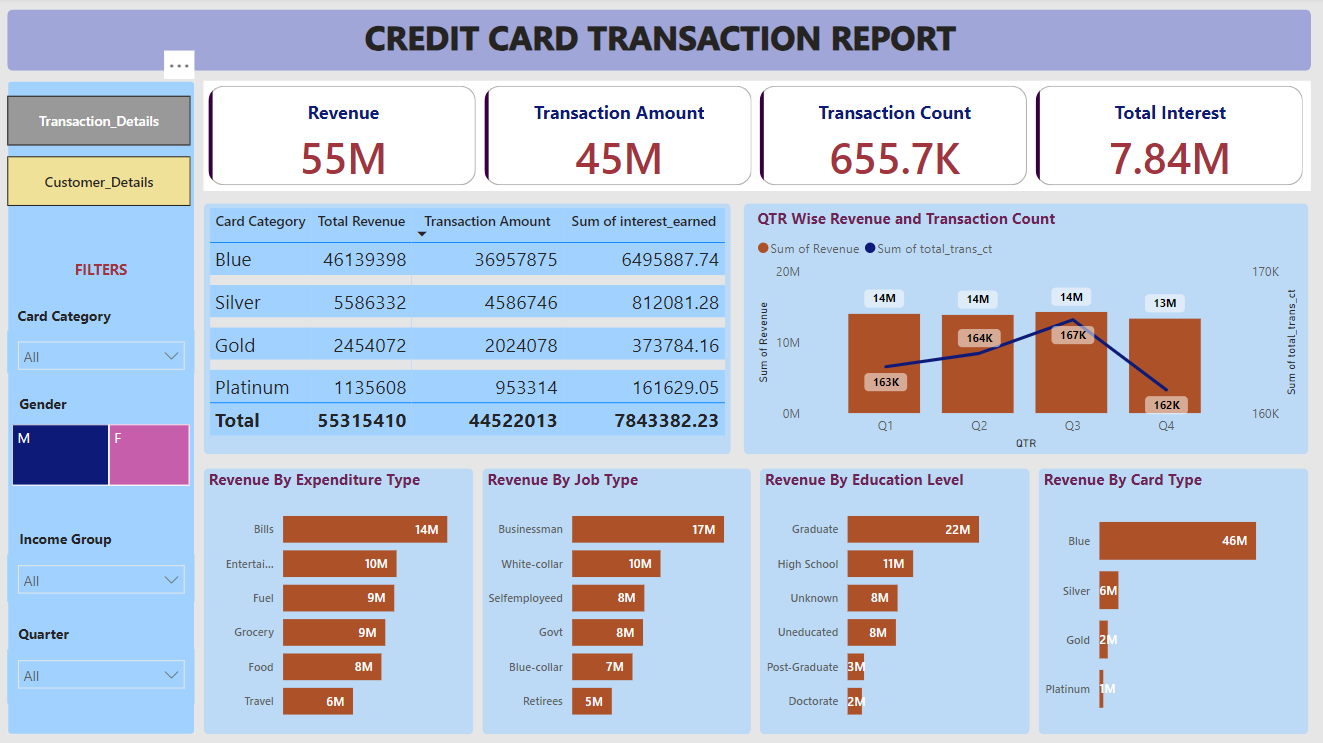

The page's visual inventory and layout, read from the dashboard file:
{"tool":"powerbi","page":{"name":"Transaction_Details","canvas":[1280,720],"ordinal":0},"visuals":[{"type":"shape","box":[10.9,12.1,1258.3,59.1],"z":0},{"type":"textbox","box":[325.7,12.1,631,59.1],"z":1000},{"type":"shape","box":[10.9,80.8,181,631],"z":2000},{"type":"textbox","box":[10.9,248.5,181,30.2],"z":3000},{"type":"cardVisual","fields":{"Data":["Sum(public cc_detail.Revenue)","Sum(public cc_detail.total_trans_amt)","Sum(public cc_detail.total_trans_ct)","Sum(public cc_detail.interest_earned)"]},"box":[200.3,80.8,1068.9,106.2],"z":4000},{"type":"shape","box":[721.5,199.1,545.3,242.5],"z":5000},{"type":"shape","box":[200.3,199.1,509.1,242.5],"z":6000},{"type":"shape","box":[200.3,454.8,260.6,257],"z":7000},{"type":"lineStackedColumnComboChart","title":"QTR Wise Revenue and Transaction Count","fields":{"Category":["public cc_detail.qtr"],"Y":["Sum(public cc_detail.Revenue)"],"Y2":["Sum(public cc_detail.total_trans_ct)"]},"box":[729.9,202.7,532,238.9],"z":8000},{"type":"shape","box":[469.3,454.8,259.4,257],"z":9000},{"type":"shape","box":[1006.2,454.8,260.6,257],"z":10000},{"type":"shape","box":[737.1,454.8,260.6,257],"z":11000},{"type":"barChart","title":"Revenue By Expenditure Type","fields":{"Y":["Sum(public cc_detail.Revenue)"],"Category":["public cc_detail.exp_type"]},"box":[200.3,454.8,254.6,257],"z":12000},{"type":"barChart","title":"Revenue By Job Type","fields":{"Y":["Sum(public cc_detail.Revenue)"],"Category":["public cust_detail.customer_job"]},"box":[469.3,454.8,260.6,257],"z":13000},{"type":"barChart","title":"Revenue By Education Level","fields":{"Y":["Sum(public cc_detail.Revenue)"],"Category":["public cust_detail.education_level"]},"box":[737.1,454.8,260.6,257],"z":14000},{"type":"barChart","title":"Revenue By Card Type","fields":{"Y":["Sum(public cc_detail.Revenue)"],"Category":["public cc_detail.card_category"]},"box":[1006.2,454.8,260.6,257],"z":15000},{"type":"tableEx","fields":{"Values":["public cc_detail.card_category","Sum(public cc_detail.Revenue)","Sum(public cc_detail.total_trans_amt)","Sum(public cc_detail.interest_earned)"]},"box":[200.3,199.1,509.1,242.5],"z":16000},{"type":"pageNavigator","box":[10.9,95.3,177.3,107.4],"z":17000},{"type":"slicer","fields":{"Values":["public cc_detail.card_category"]},"box":[10.9,322.1,181,41],"z":18000},{"type":"textbox","box":[10.9,293.2,109.8,29],"z":19000},{"type":"treemap","title":"Gender","fields":{"Group":["public cust_detail.gender"],"Values":["Sum(public cc_detail.Revenue)"]},"box":[10.9,407.8,181,68.8],"z":20000},{"type":"textbox","box":[10.9,378.8,68.8,29],"z":21000},{"type":"slicer","fields":{"Values":["public cust_detail.Income group"]},"box":[10.9,538.1,181,45.8],"z":22000},{"type":"textbox","box":[12.1,509.1,109.8,29],"z":23000},{"type":"slicer","fields":{"Values":["public cc_detail.qtr"]},"box":[10.9,629.8,181,51.9],"z":24000},{"type":"textbox","box":[12.1,600.8,67.6,29],"z":25000}]}

Visuals, with their boxes in screenshot pixels (x1, y1, x2, y2), scaled from the page's 1280x720 canvas onto the 1323x743 screenshot:
shape: box=[11, 12, 1312, 73]
textbox: box=[337, 12, 989, 73]
shape: box=[11, 83, 198, 735]
textbox: box=[11, 256, 198, 288]
cardVisual - Sum(public cc_detail.Revenue) x Sum(public cc_detail.total_trans_amt): box=[207, 83, 1312, 193]
shape: box=[746, 205, 1309, 456]
shape: box=[207, 205, 733, 456]
shape: box=[207, 469, 476, 735]
"QTR Wise Revenue and Transaction Count" lineStackedColumnComboChart: box=[754, 209, 1304, 456]
shape: box=[485, 469, 753, 735]
shape: box=[1040, 469, 1309, 735]
shape: box=[762, 469, 1031, 735]
"Revenue By Expenditure Type" barChart: box=[207, 469, 470, 735]
"Revenue By Job Type" barChart: box=[485, 469, 754, 735]
"Revenue By Education Level" barChart: box=[762, 469, 1031, 735]
"Revenue By Card Type" barChart: box=[1040, 469, 1309, 735]
tableEx - public cc_detail.card_category x Sum(public cc_detail.Revenue): box=[207, 205, 733, 456]
pageNavigator: box=[11, 98, 195, 209]
slicer - public cc_detail.card_category: box=[11, 332, 198, 375]
textbox: box=[11, 303, 125, 332]
"Gender" treemap: box=[11, 421, 198, 492]
textbox: box=[11, 391, 82, 421]
slicer - public cust_detail.Income group: box=[11, 555, 198, 603]
textbox: box=[13, 525, 126, 555]
slicer - public cc_detail.qtr: box=[11, 650, 198, 703]
textbox: box=[13, 620, 82, 650]
